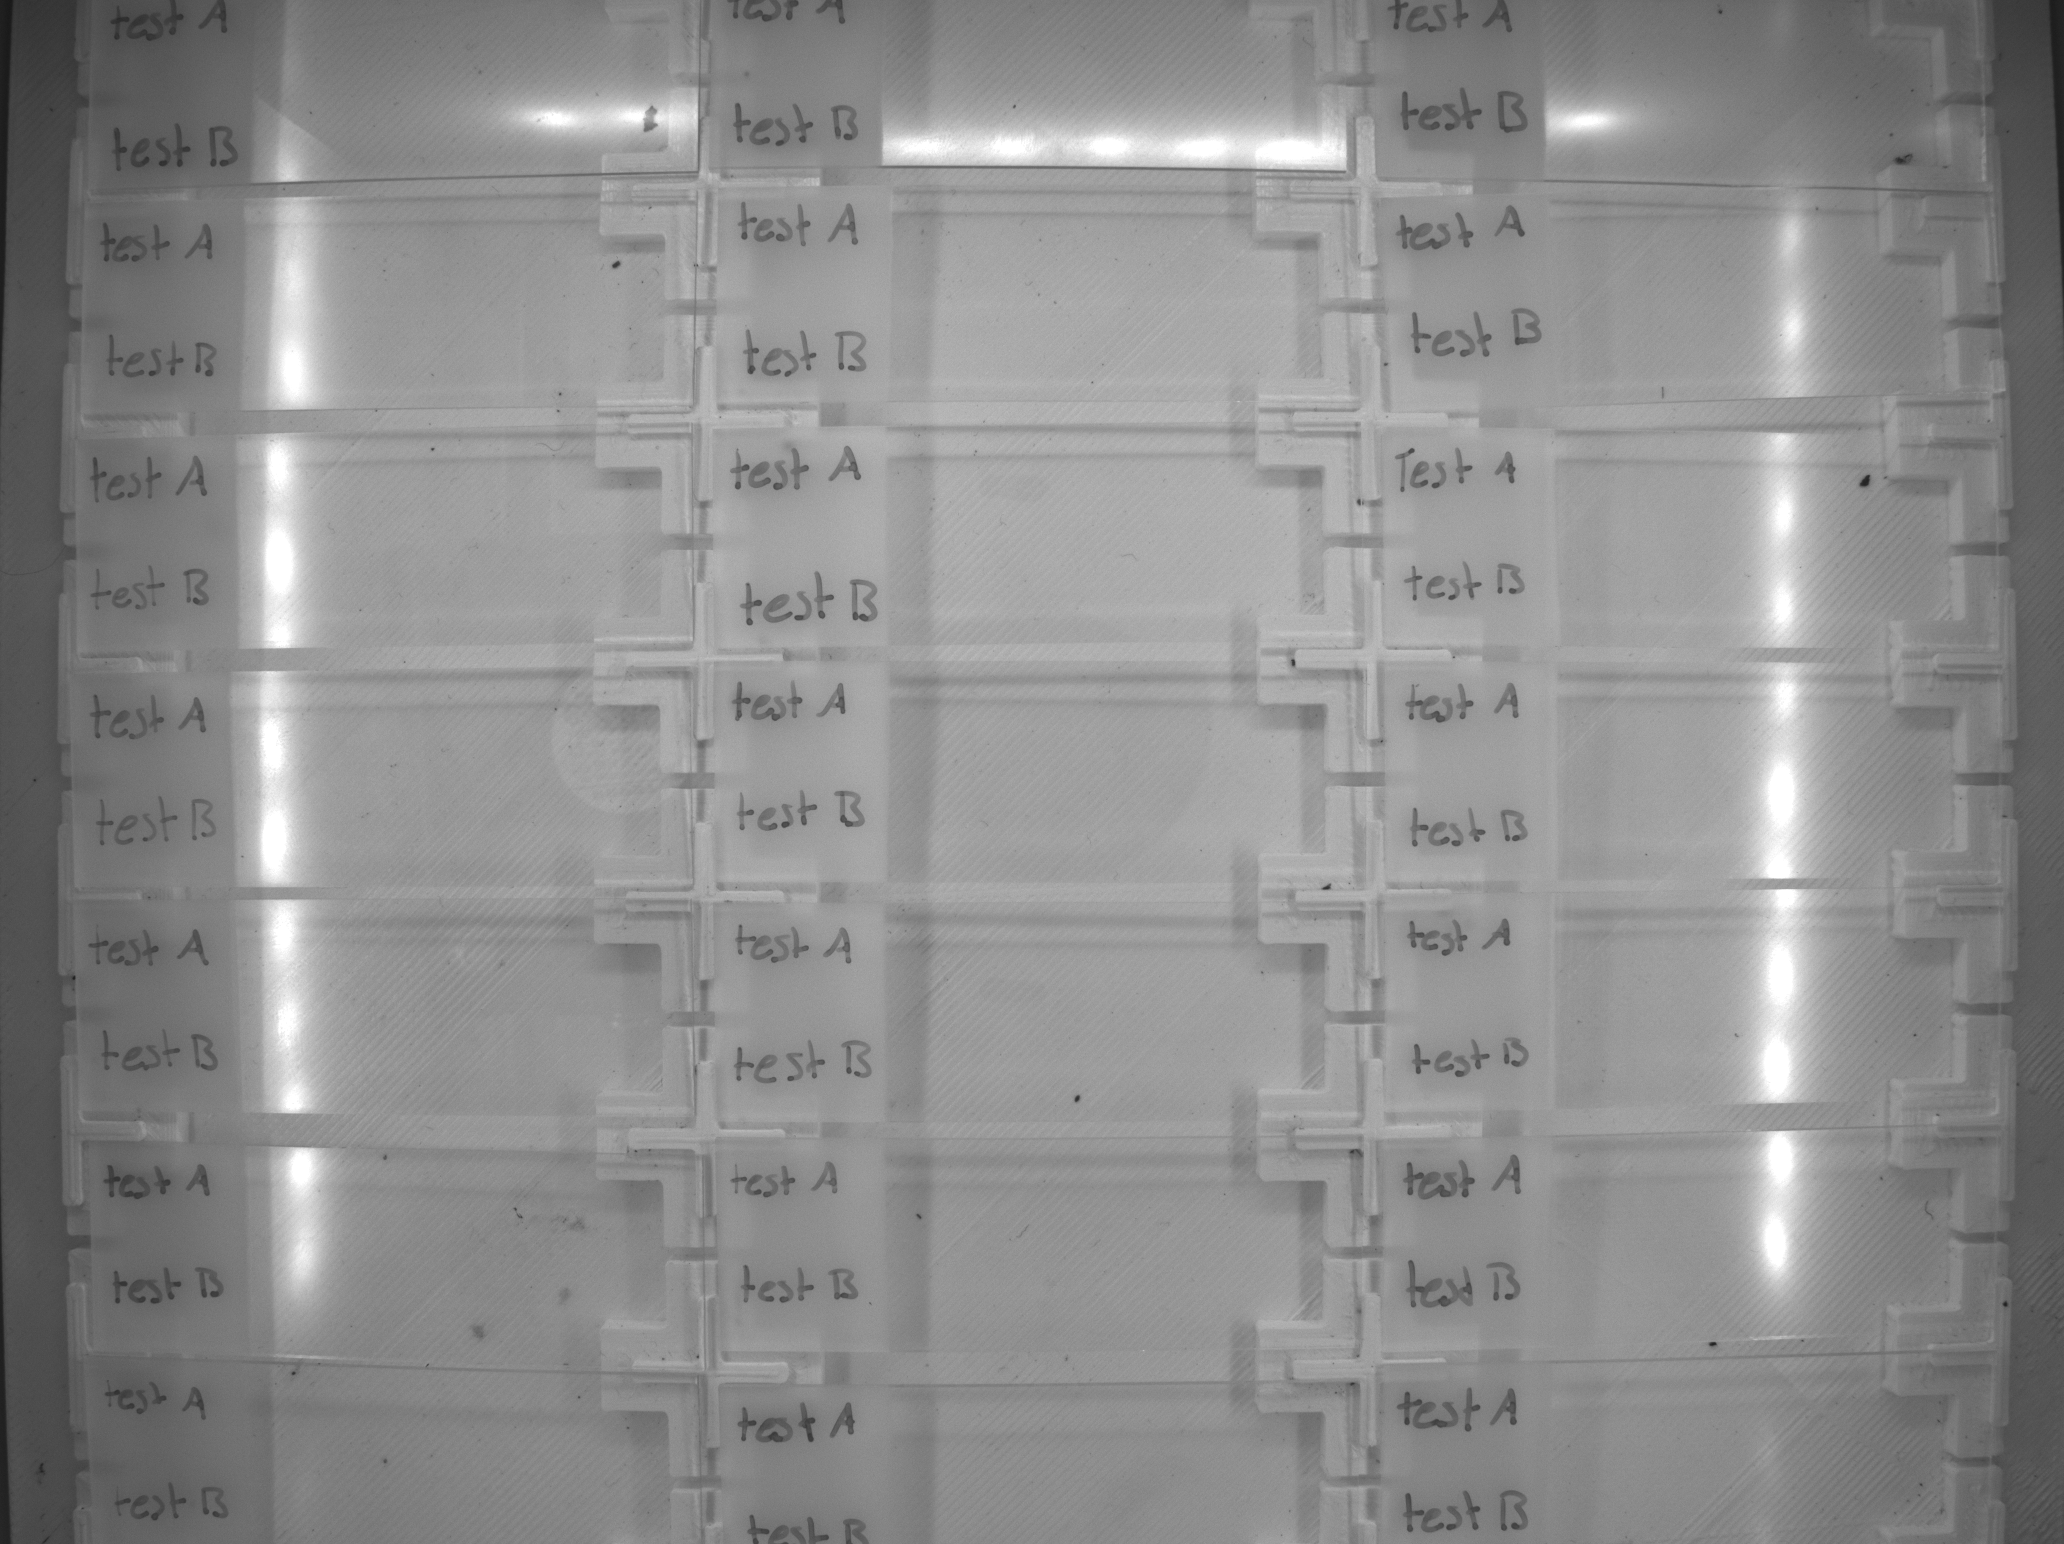text: (717, 547, 889, 654), (1381, 665, 1558, 769), (1383, 782, 1558, 886), (717, 428, 889, 534), (1383, 191, 1555, 297), (1381, 308, 1553, 414), (718, 663, 887, 770), (718, 780, 887, 886), (718, 1022, 887, 1126), (718, 903, 887, 1007), (720, 190, 892, 290), (1390, 899, 1553, 1004), (1383, 1247, 1547, 1353), (722, 302, 890, 404), (1390, 542, 1555, 645), (722, 1252, 885, 1356), (1390, 1015, 1553, 1119), (723, 1139, 885, 1242), (1388, 431, 1555, 532), (1381, 1137, 1545, 1237), (76, 671, 237, 774), (84, 1252, 245, 1354), (83, 907, 240, 1010), (76, 783, 235, 886), (83, 1140, 242, 1242), (79, 553, 237, 655), (79, 441, 237, 543), (81, 1022, 240, 1122), (84, 308, 243, 405), (86, 204, 242, 300)
varroa: (715, 1017, 1367, 1129), (717, 777, 1367, 889), (715, 662, 1365, 774), (717, 900, 1367, 1012), (713, 427, 1365, 537), (713, 543, 1364, 654), (720, 1250, 1360, 1359), (1380, 778, 1999, 890), (717, 187, 1354, 295), (720, 1137, 1360, 1244), (1378, 662, 1999, 772), (1386, 1014, 2006, 1124), (1385, 897, 2004, 1007), (1378, 1246, 1998, 1356), (718, 300, 1354, 407), (1378, 190, 1989, 300), (1380, 307, 1989, 417), (1386, 540, 1996, 650), (79, 903, 696, 1012), (1377, 1134, 1996, 1241), (73, 670, 689, 777), (79, 1019, 696, 1126), (81, 1250, 697, 1357), (79, 1137, 696, 1244), (76, 550, 689, 657), (73, 782, 689, 887), (78, 440, 691, 545), (1385, 430, 1994, 535), (83, 307, 696, 409), (83, 203, 696, 302)
